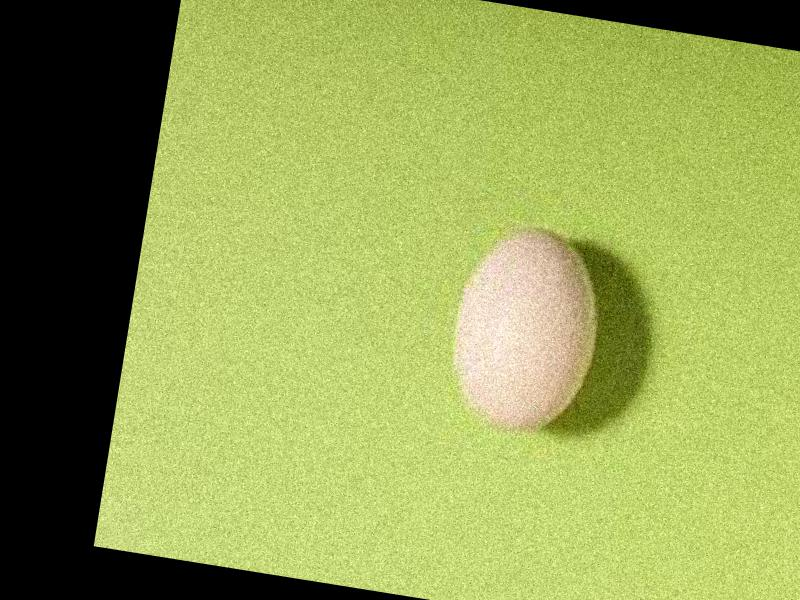Eggs: (444, 215, 612, 440)
